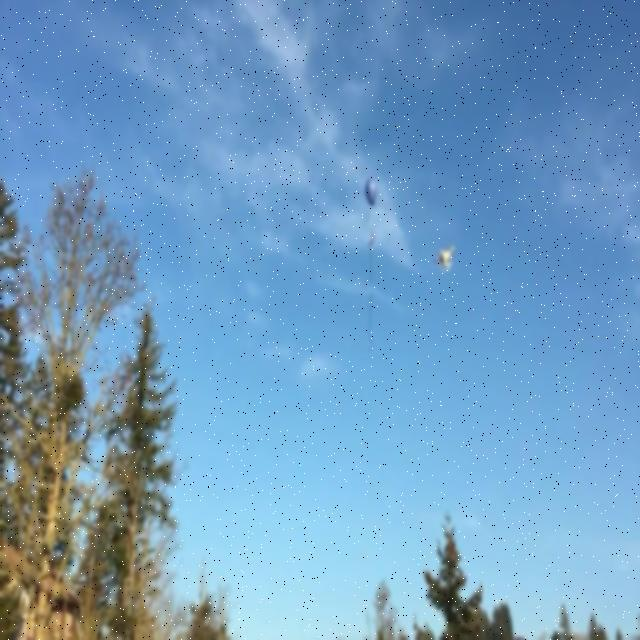UAV: (434, 246, 454, 272)
